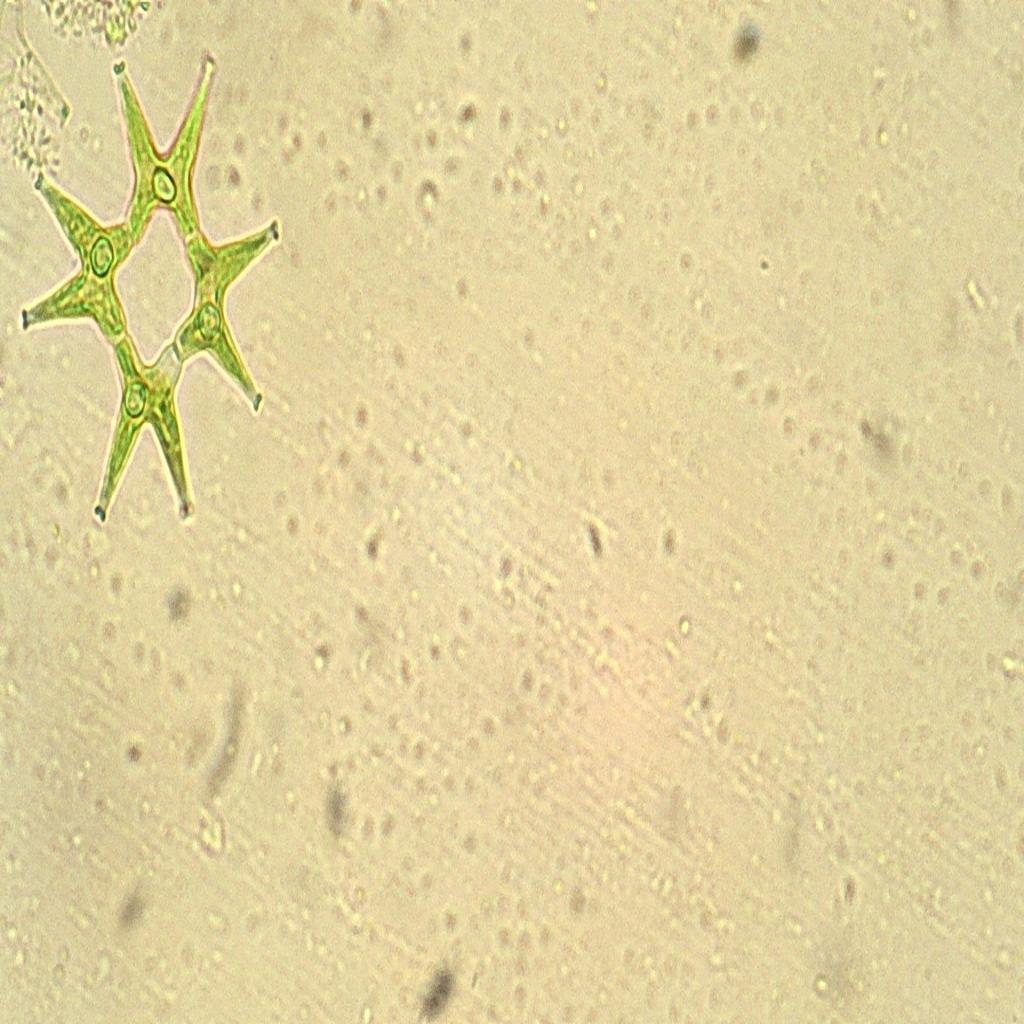Pediastrum_75O: (13, 37, 287, 532)
